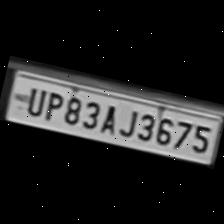3: (76, 94, 104, 130), (132, 106, 158, 142)
5: (185, 118, 215, 154)
6: (152, 110, 176, 146)
7: (169, 114, 194, 150)
8: (60, 91, 85, 127)
A: (96, 98, 122, 134)
J: (115, 102, 140, 137)
P: (40, 86, 66, 122)
U: (19, 81, 48, 117)
